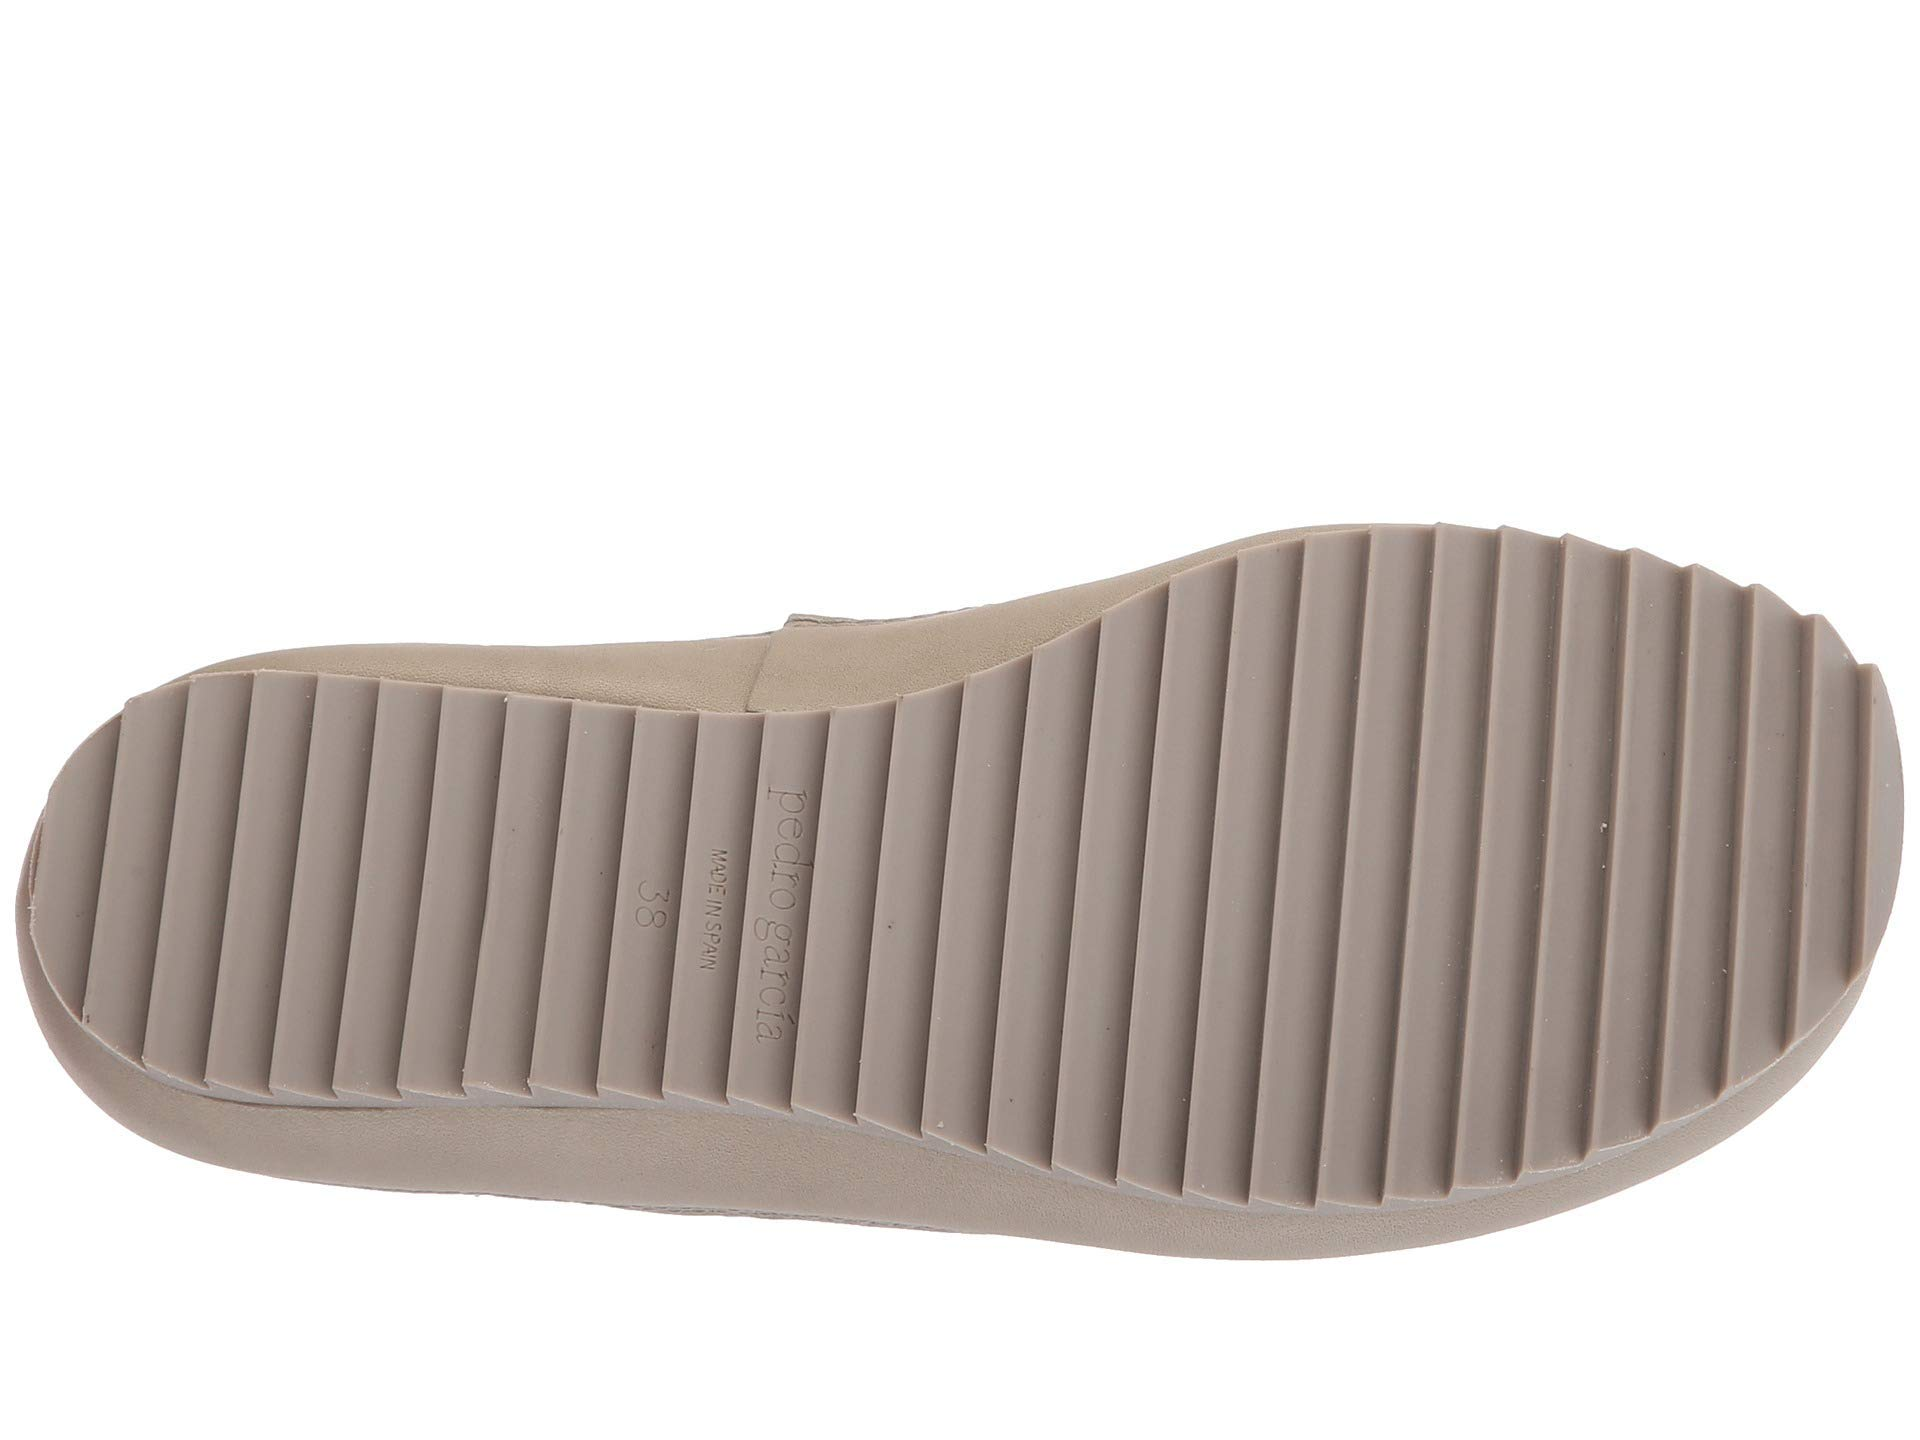circle: (614, 746, 862, 1057)
line: (1073, 666, 1565, 1119), (154, 694, 513, 1063), (1559, 599, 1850, 902), (614, 746, 862, 1057), (866, 722, 1093, 956), (1560, 892, 1770, 1078)
text: (614, 746, 862, 1057)
